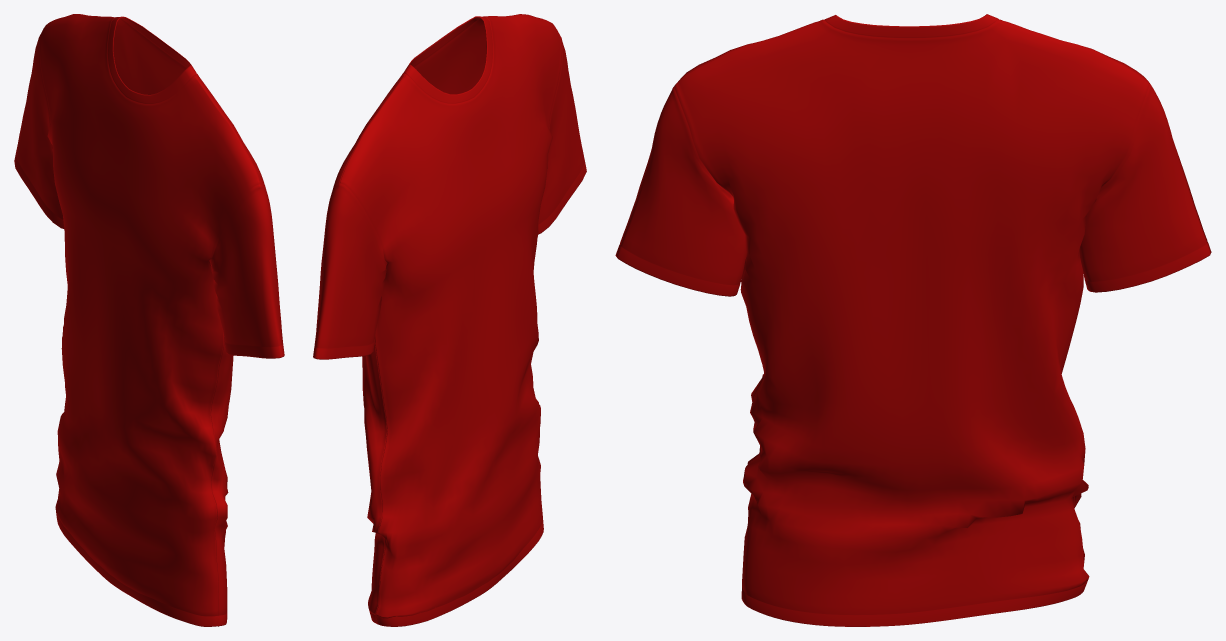
Rendered from T_Shirt_male050.fbx.
3 renders of one model, left to right at view 1: azimuth 30°, elevation 25°; view 2: azimuth 150°, elevation 25°; view 3: azimuth 270°, elevation 25°, orthographic. The views are drawn at different scales.
Parts seen in each view (by area): view 1: T_Shirt_male050; view 2: T_Shirt_male050; view 3: T_Shirt_male050.
Part boxes in pixels (box(x1,y1,x2,y2)): T_Shirt_male050: box(14, 14, 284, 626); T_Shirt_male050: box(313, 14, 586, 626); T_Shirt_male050: box(615, 14, 1211, 626).
Size of the model in its own units: 3.39 by 21.2 by 19.1.
